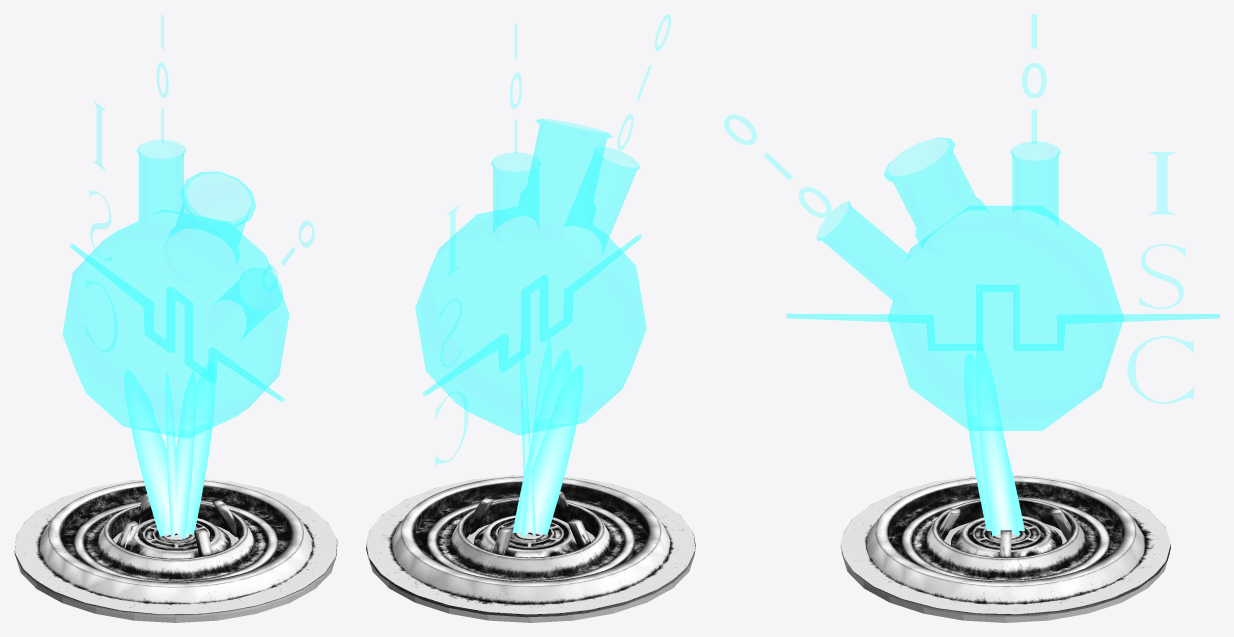
Rendered from HologramMain.fbx.
The picture shows the model from 3 angles, left to right: view 1: azimuth 30°, elevation 25°; view 2: azimuth 150°, elevation 25°; view 3: azimuth 270°, elevation 25°; orthographic projection.
Parts seen in each view (by area): view 1: Icosphere.006, polySurface8, Plane, SF_4_01, Cylinder; view 2: Icosphere.006, polySurface8, Plane, SF_4_01, Cylinder; view 3: Icosphere.006, polySurface8, Plane, SF_4_01, Cylinder.
Part boxes in pixels (x1,y1,x2,y2): Icosphere.006: (62,14,314,438); polySurface8: (14,479,337,616); Plane: (124,362,215,539); SF_4_01: (128,518,231,558); Cylinder: (15,526,336,622); Icosphere.006: (415,14,670,465); polySurface8: (366,475,695,617); Plane: (512,338,583,538); SF_4_01: (474,515,578,557); Cylinder: (367,524,694,622); Icosphere.006: (724,14,1219,430); polySurface8: (840,475,1170,616); Plane: (964,342,1024,536); SF_4_01: (951,516,1062,557); Cylinder: (841,522,1169,622).
Bounding box in the file's own units: 295 × 503 × 419.
